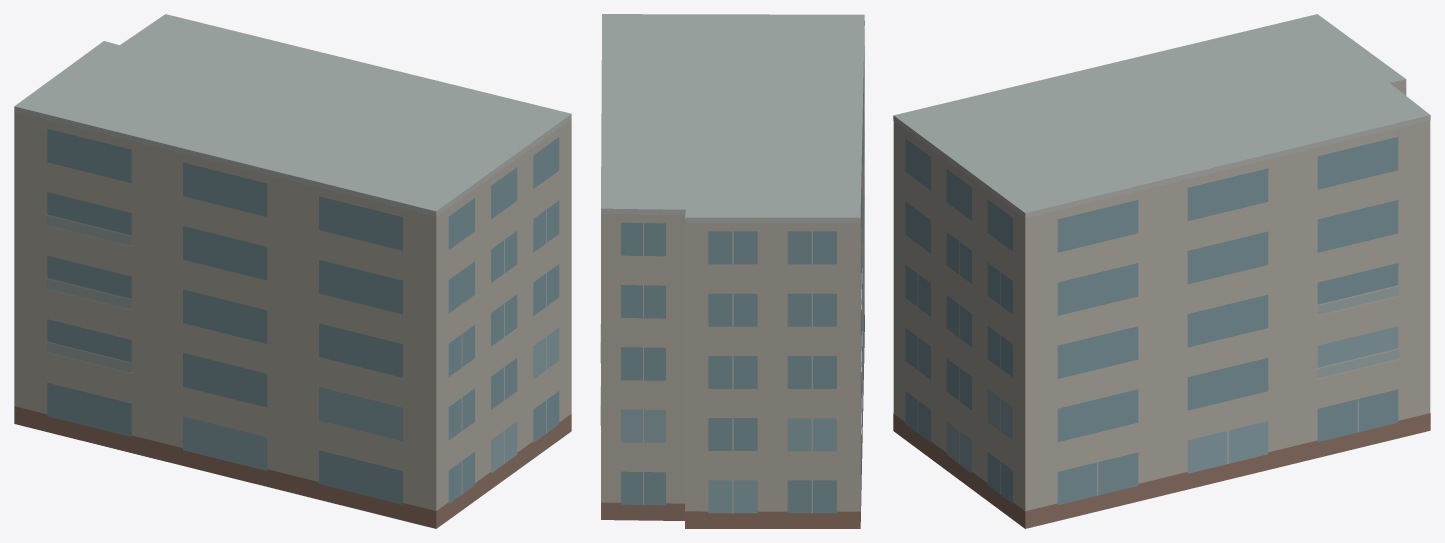
Rendered from survey-upis-32953314.glb.
The picture shows the model from 3 angles, left to right: view 1: azimuth 30°, elevation 25°; view 2: azimuth 150°, elevation 25°; view 3: azimuth 270°, elevation 25°; orthographic projection.
Parts seen in each view (by area): view 1: survey-upis-32953314.tmp; view 2: survey-upis-32953314.tmp; view 3: survey-upis-32953314.tmp.
Part boxes in pixels (left/top/right/bottom): survey-upis-32953314.tmp: left=14, top=14, right=571, bottom=528; survey-upis-32953314.tmp: left=600, top=14, right=864, bottom=528; survey-upis-32953314.tmp: left=893, top=14, right=1430, bottom=528.
Size of the model in its own units: 19.36 by 14.3 by 22.05.
